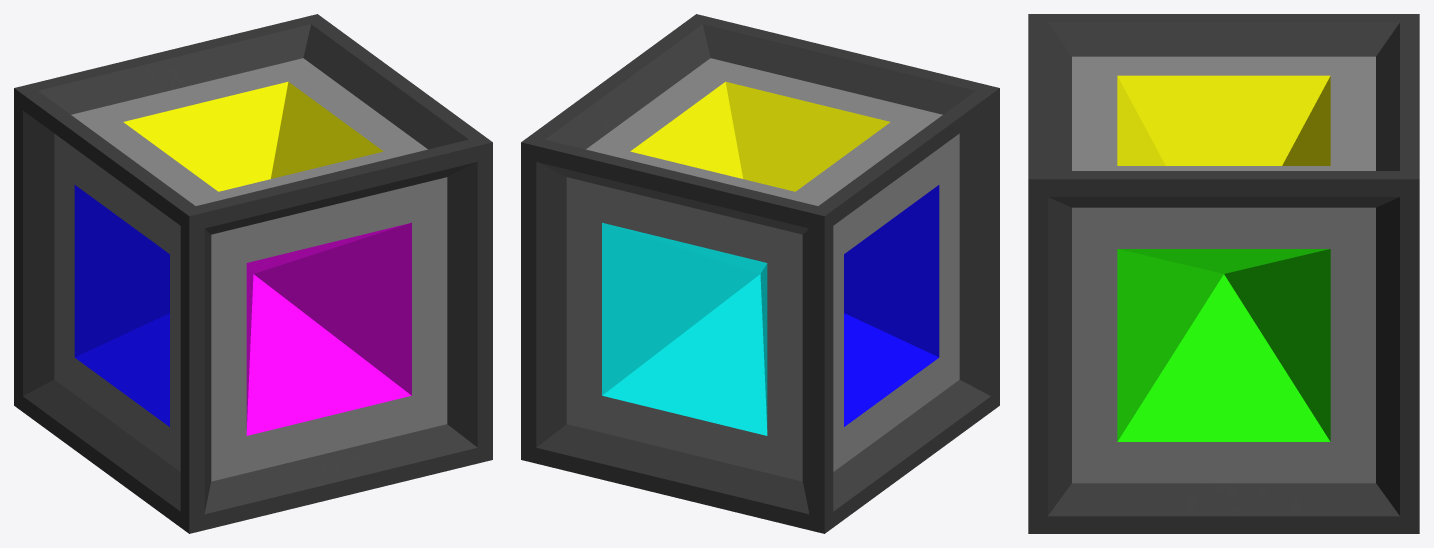
Rendered from thime cube.glb.
3 views of the same model, side by side, from view 1: azimuth 30°, elevation 25°; view 2: azimuth 150°, elevation 25°; view 3: azimuth 270°, elevation 25° (orthographic). The views are drawn at different scales.
Visible parts, largest first — view 1: Cube; view 2: Cube; view 3: Cube.
Part boxes in pixels (x1,y1,x2,y2): Cube: (14, 14, 492, 533); Cube: (521, 14, 999, 533); Cube: (1028, 14, 1419, 533).
Bounding box in the file's own units: 2 × 2 × 2.
Materials: 1 (1 with a texture image).
